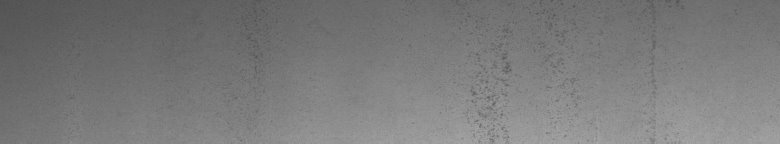ib: (462, 9, 568, 136)
